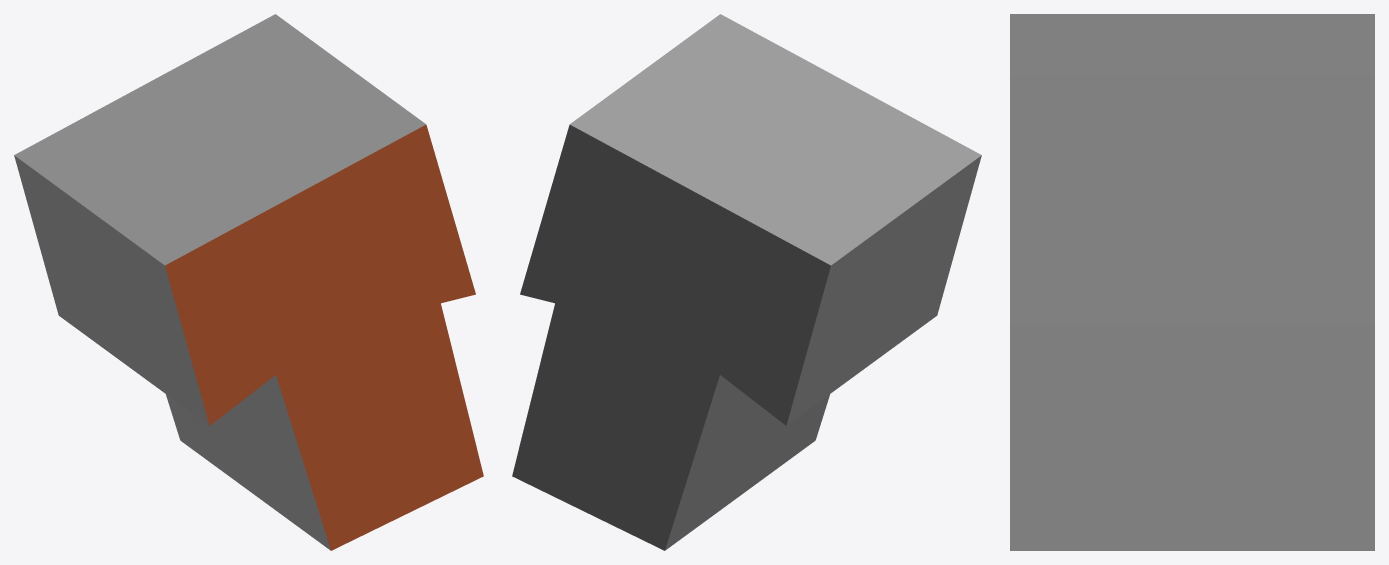
The model's file is construction_2261_assumed_A_Casa_h6m.obj.
3 renders of one model, left to right at view 1: azimuth 30°, elevation 25°; view 2: azimuth 150°, elevation 25°; view 3: azimuth 270°, elevation 25°, orthographic. The views are drawn at different scales.
Parts seen in each view (by area): view 1: construction_2261_assumed_A_Casa; view 2: construction_2261_assumed_A_Casa; view 3: construction_2261_assumed_A_Casa.
Boxes of the visible parts, x1,y1,x2,y2 form: construction_2261_assumed_A_Casa: [14, 14, 483, 550]; construction_2261_assumed_A_Casa: [512, 14, 981, 550]; construction_2261_assumed_A_Casa: [1010, 14, 1374, 550].
Size of the model in its own units: 7.32 by 8.85 by 6.
